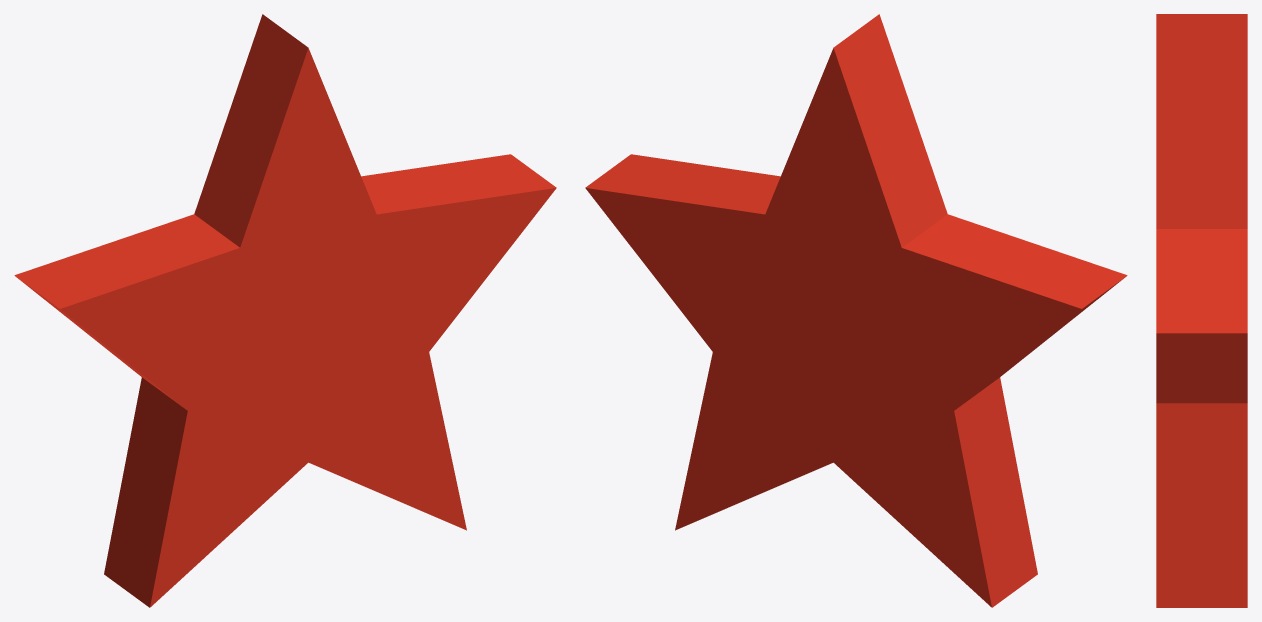
The model's file is Icon_Star_02.fbx.
The picture shows the model from 3 angles, left to right: view 1: azimuth 30°, elevation 25°; view 2: azimuth 150°, elevation 25°; view 3: azimuth 270°, elevation 25°; orthographic projection.
Parts seen in each view (by area): view 1: Icon_Star_02; view 2: Icon_Star_02; view 3: Icon_Star_02.
Part boxes in pixels (<box>): Icon_Star_02: <box>14,14,556,607</box>; Icon_Star_02: <box>585,14,1127,607</box>; Icon_Star_02: <box>1156,14,1247,607</box>.
Bounding box in the file's own units: 75.27 × 75.53 × 12.06.
